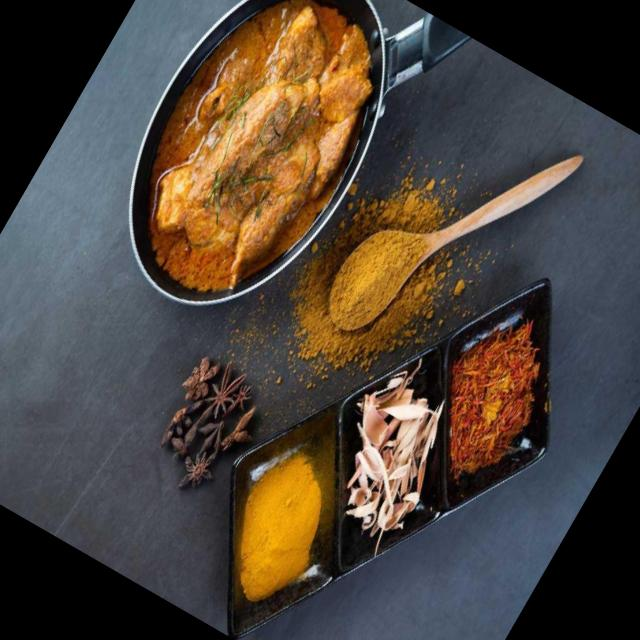chicken: (97, 0, 412, 327)
